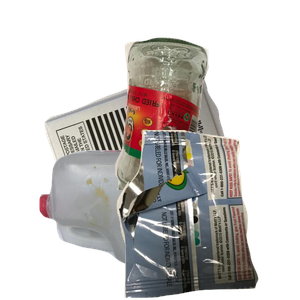glass: (112, 35, 300, 215)
paper: (42, 68, 275, 248)
plastic: (37, 147, 254, 300)
trash: (114, 130, 300, 300)
